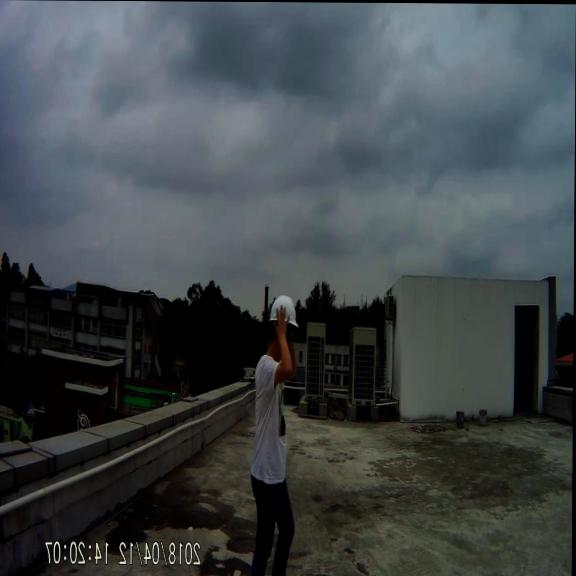no_safety_vest: (240, 358, 299, 492)
